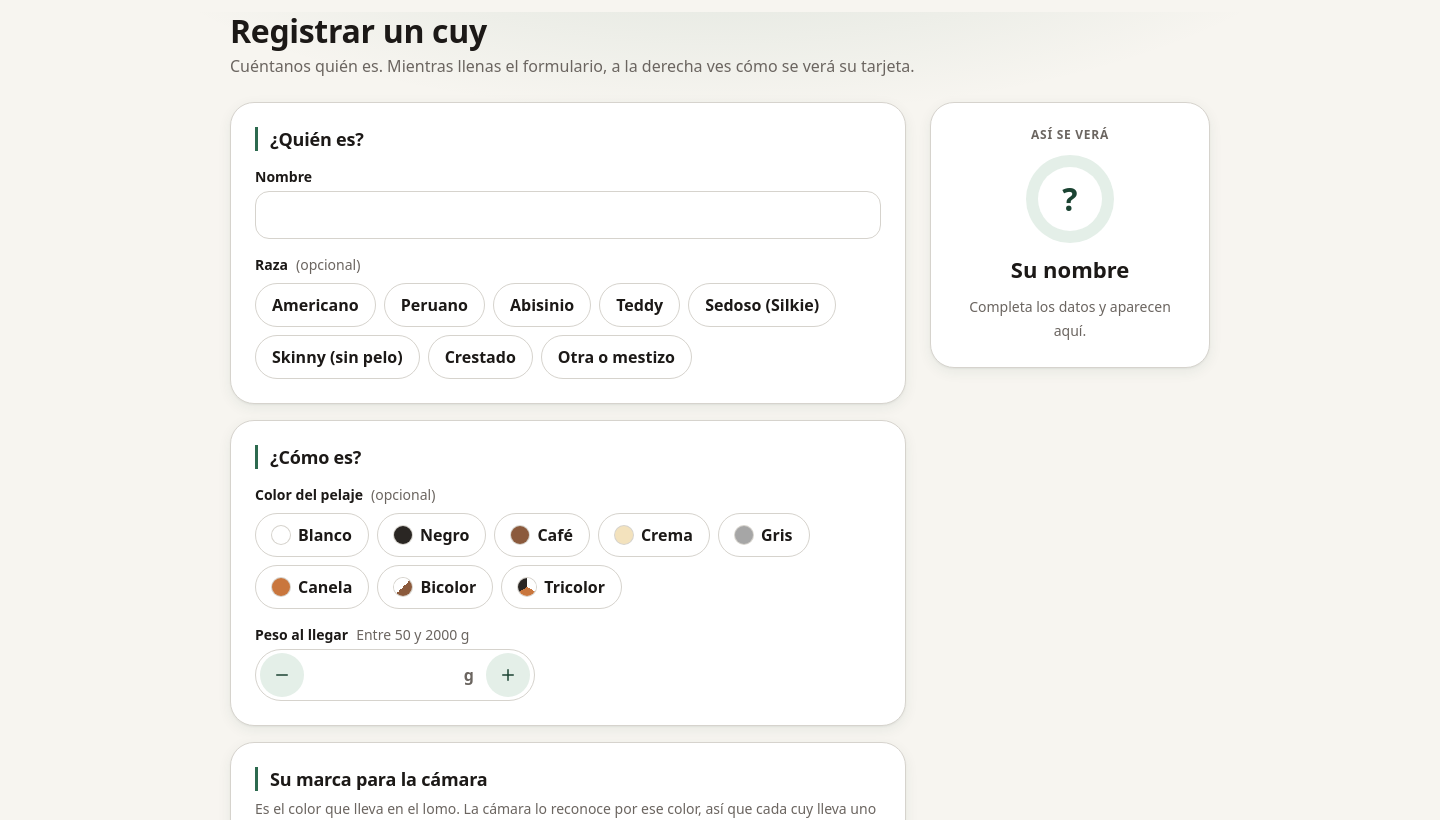
it: RegisterGuineaPig › shows the preview growing with what is typed
Expected: the text "Su nombre" is shown, [1011,255,1129,283]
Type "Manchas" into the field labelled "Nombre".
click(568, 215); type("Manchas")  # box [256,192,880,238]
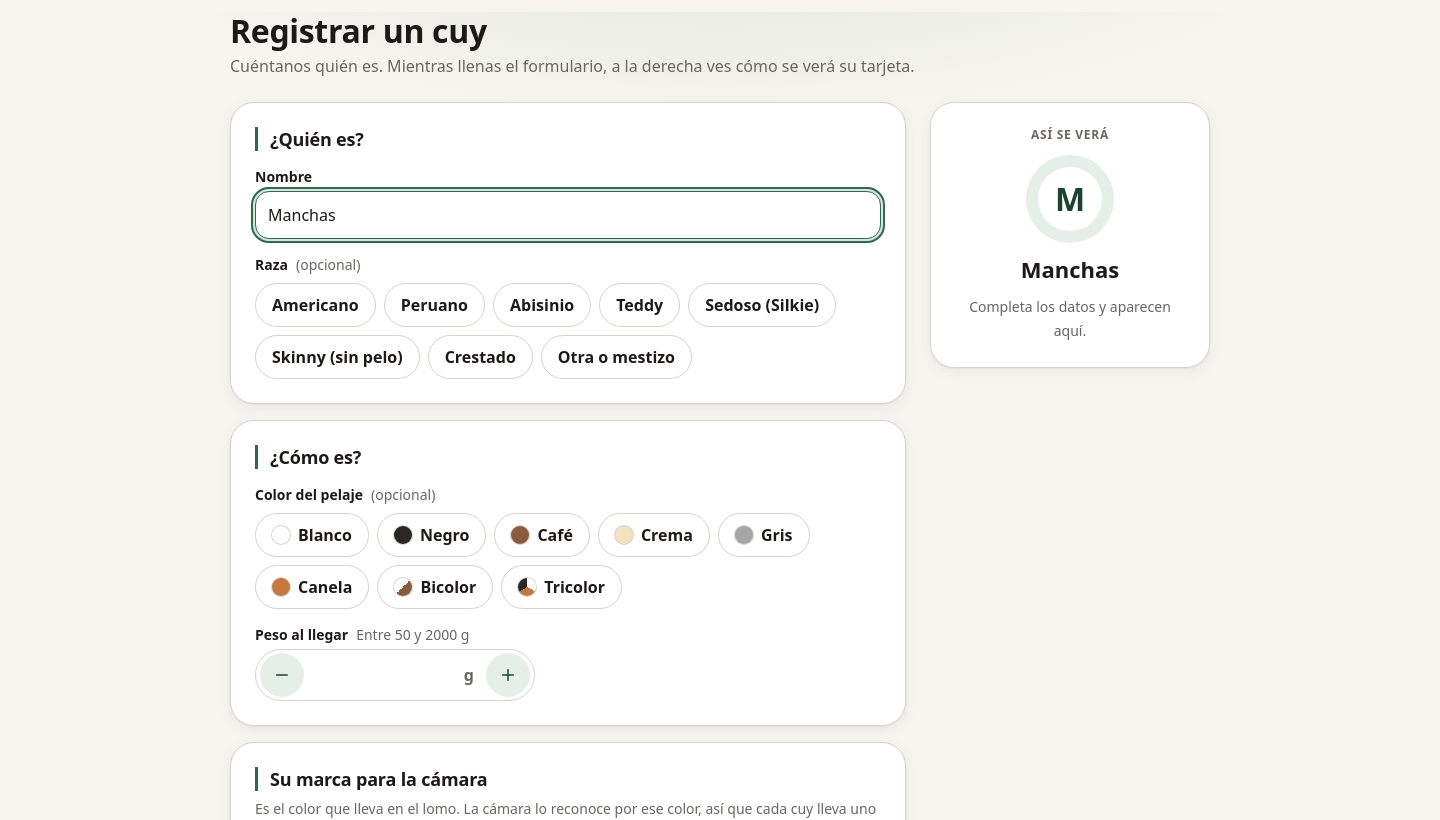
Click the button "Abisinio".
click(542, 305)  # box [493,283,591,327]
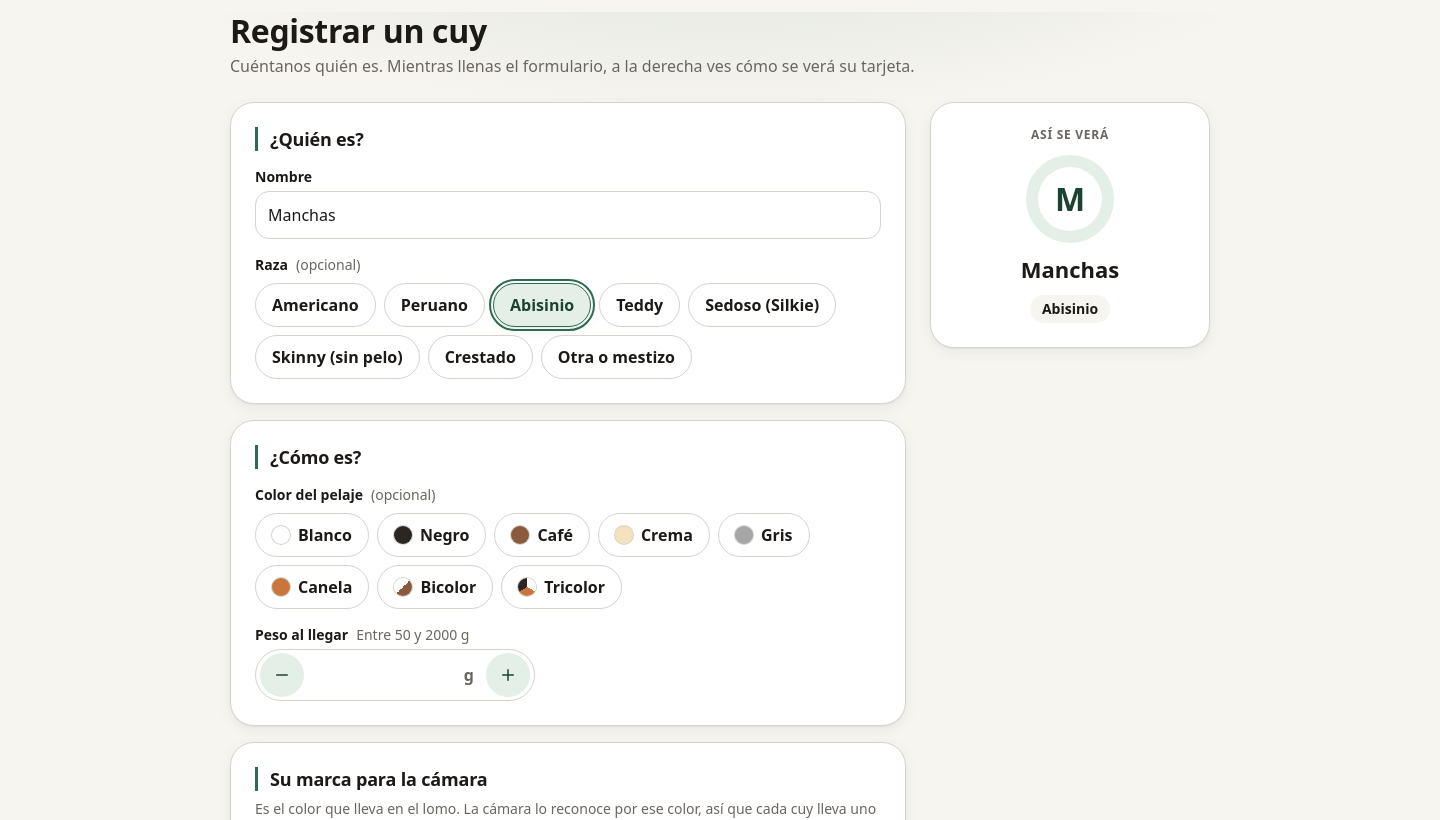
Type "900" into the field labelled "Peso al llegar Entre 50 y 2000 g".
click(384, 675); type("900")  # box [308,651,460,699]
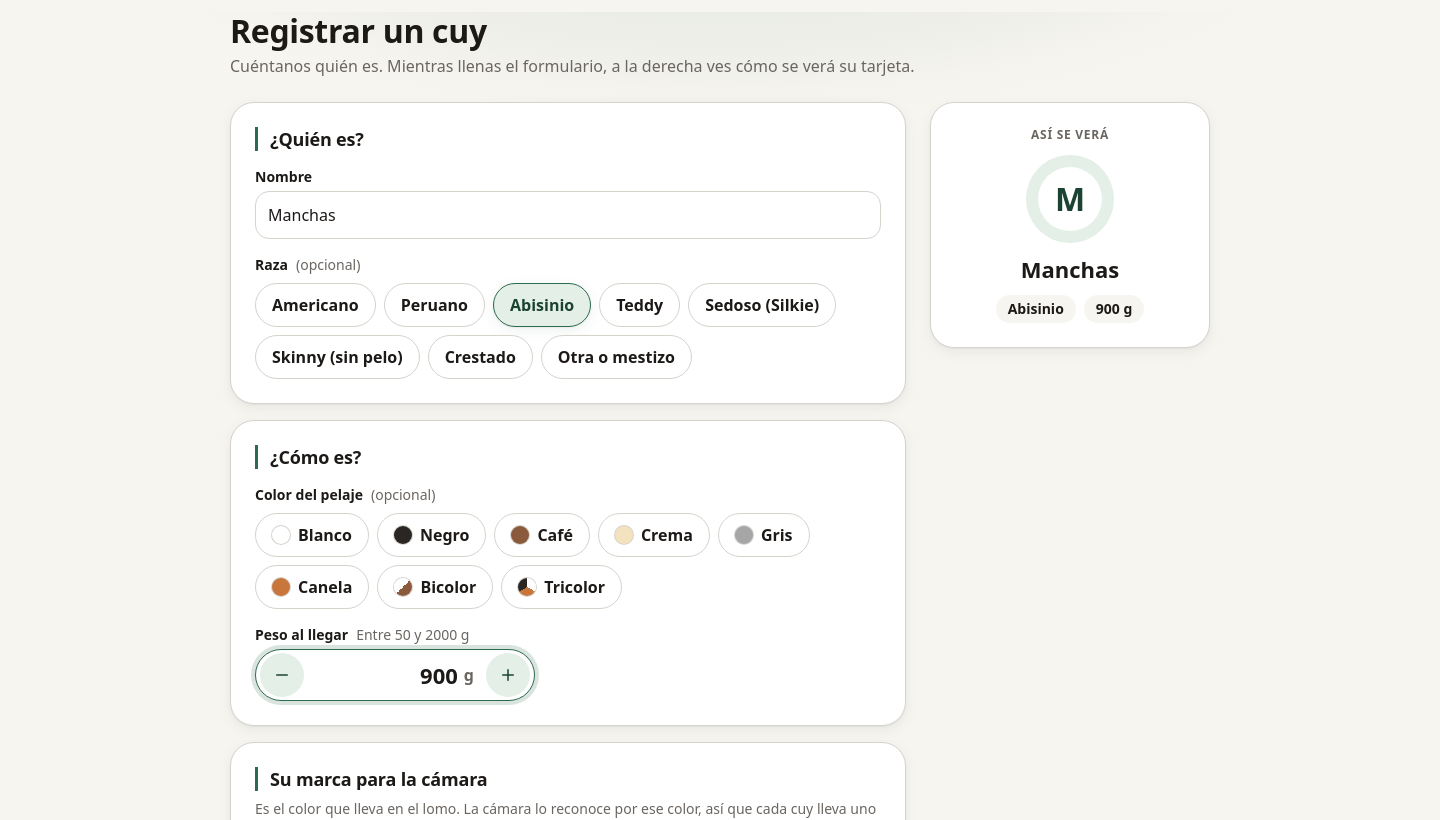
Expected: the text "Manchas" is shown, [1021,255,1119,283]
Expected: the list item "Abisinio" is shown, [996,295,1076,323]
Expected: the list item "900 g" is shown, [1084,295,1144,323]
